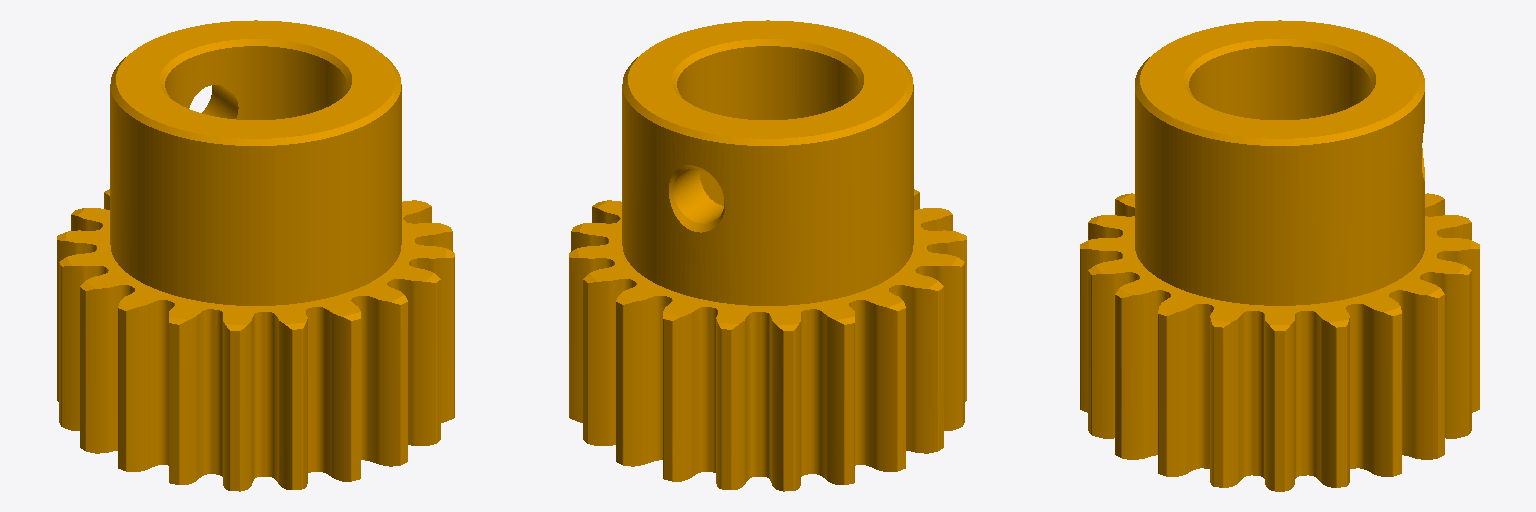
The robot description file, URDF, robot "factory_gear_small":
<?xml version="1.0"?>
<robot name="factory_gear_small">
    <link name="factory_gear_small">
        <visual>
            <geometry>
                <mesh filename="../mesh/factory_gears/factory_gear_small_space_5e-4.obj"/>
            </geometry>
        </visual>
        <collision>
            <geometry>
                <mesh filename="../mesh/factory_gears/factory_gear_small_space_5e-4.obj"/>
            </geometry>
            <sdf resolution="256"/>
        </collision>
    </link>
</robot>

--- What the picture shows (computed from the rendered views, not written in the file) ---
Views: 3 orthographic renders of the robot side by side, from view 1: azimuth 30°, elevation 25°; view 2: azimuth 150°, elevation 25°; view 3: azimuth 270°, elevation 25°.
Model factory_gear_small with 1 links and 0 joints (none), rooted at factory_gear_small, posed every joint at zero.
Visible links, largest first — view 1: factory_gear_small; view 2: factory_gear_small; view 3: factory_gear_small.
Boxes of the visible links, <box> form: factory_gear_small: <box>57,20,454,491</box>; factory_gear_small: <box>569,20,966,491</box>; factory_gear_small: <box>1080,20,1479,491</box>.
Bounding box of the posed robot: 0.022 × 0.022 × 0.02 m (x, y, z).
Meshes: 1 distinct files referenced, 1 mesh visuals loaded (1 OBJ).